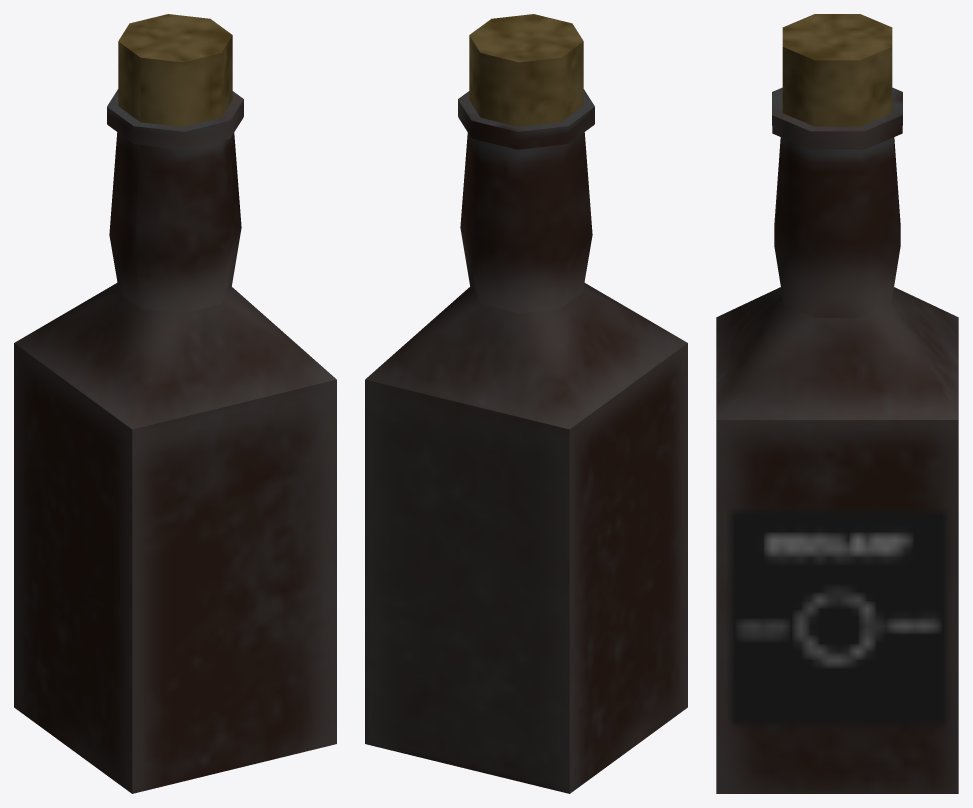
The model's file is BOTTLE_1_low.fbx.
The picture shows the model from 3 angles, left to right: view 1: azimuth 30°, elevation 25°; view 2: azimuth 150°, elevation 25°; view 3: azimuth 270°, elevation 25°; orthographic projection. The views are drawn at different scales.
Parts seen in each view (by area): view 1: BOTTLE_1_low; view 2: BOTTLE_1_low; view 3: BOTTLE_1_low.
Boxes of the visible parts, bbox=[...] form: BOTTLE_1_low: bbox=[14, 14, 336, 793]; BOTTLE_1_low: bbox=[365, 14, 687, 793]; BOTTLE_1_low: bbox=[716, 14, 958, 793].
Size of the model in its own units: 8.26 by 26.52 by 8.26.
